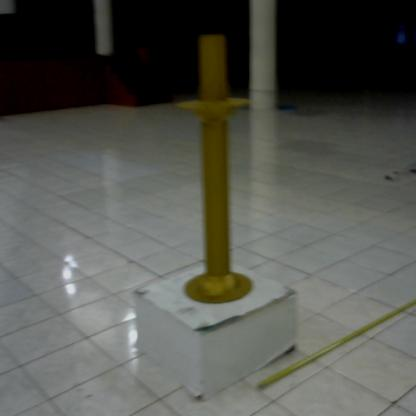pole: (174, 27, 260, 311)
